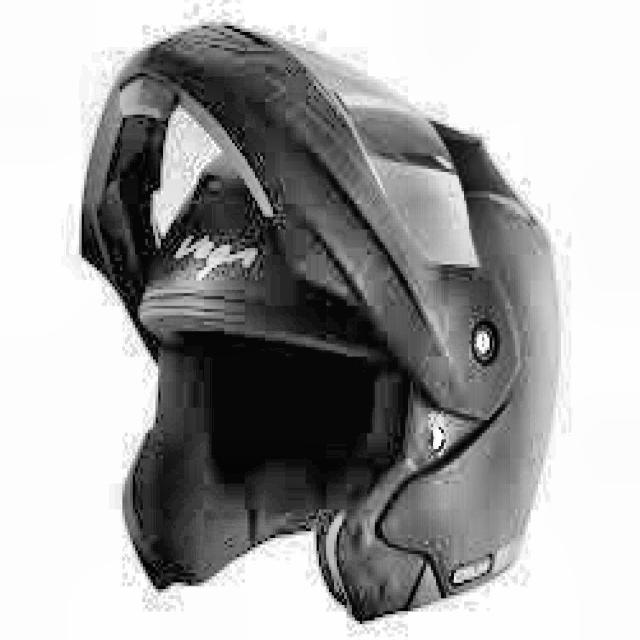Helmet: (70, 20, 573, 635)
